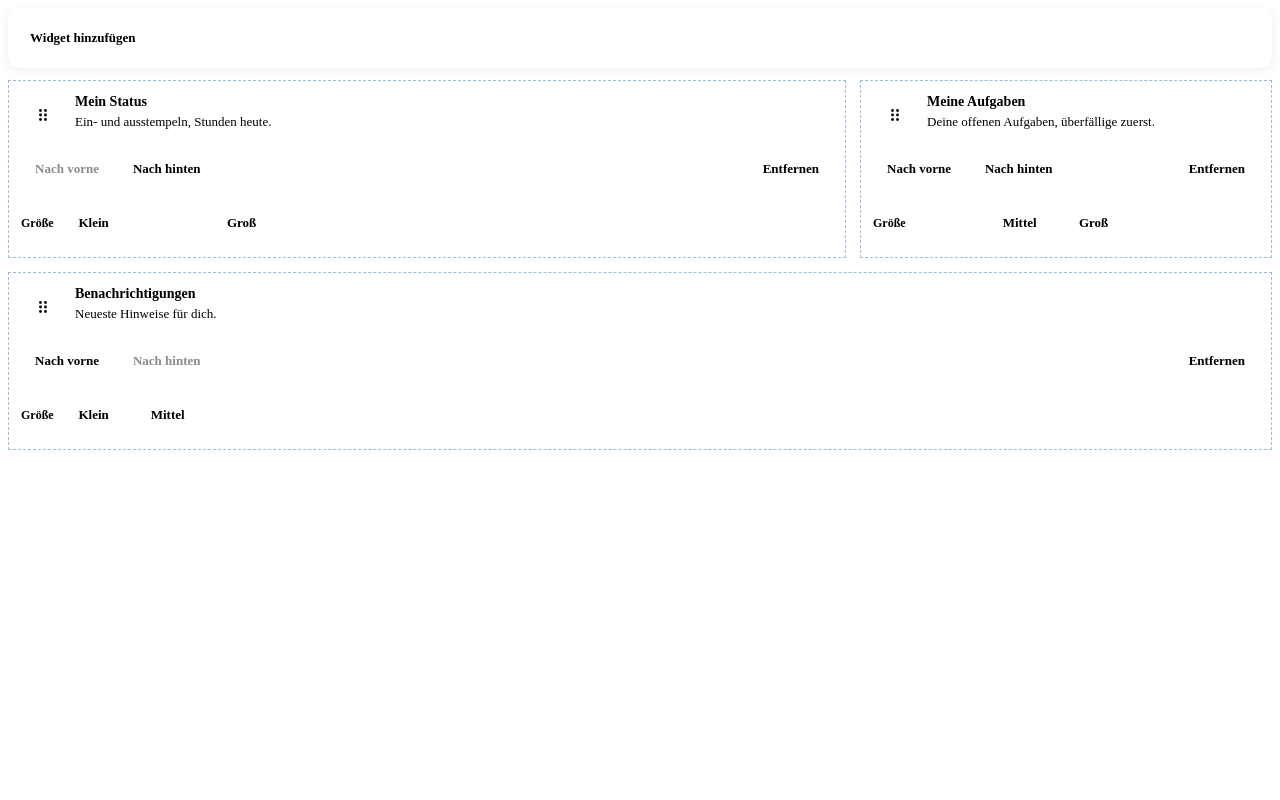
Scenario: DashboardEditor — adding › lists only available widgets not yet placed, under their group headings
This screenshot has width=1280, height=800.
Click the button "Widget hinzufügen" at (83, 38), box x1=16 y1=16 x2=150 y2=60
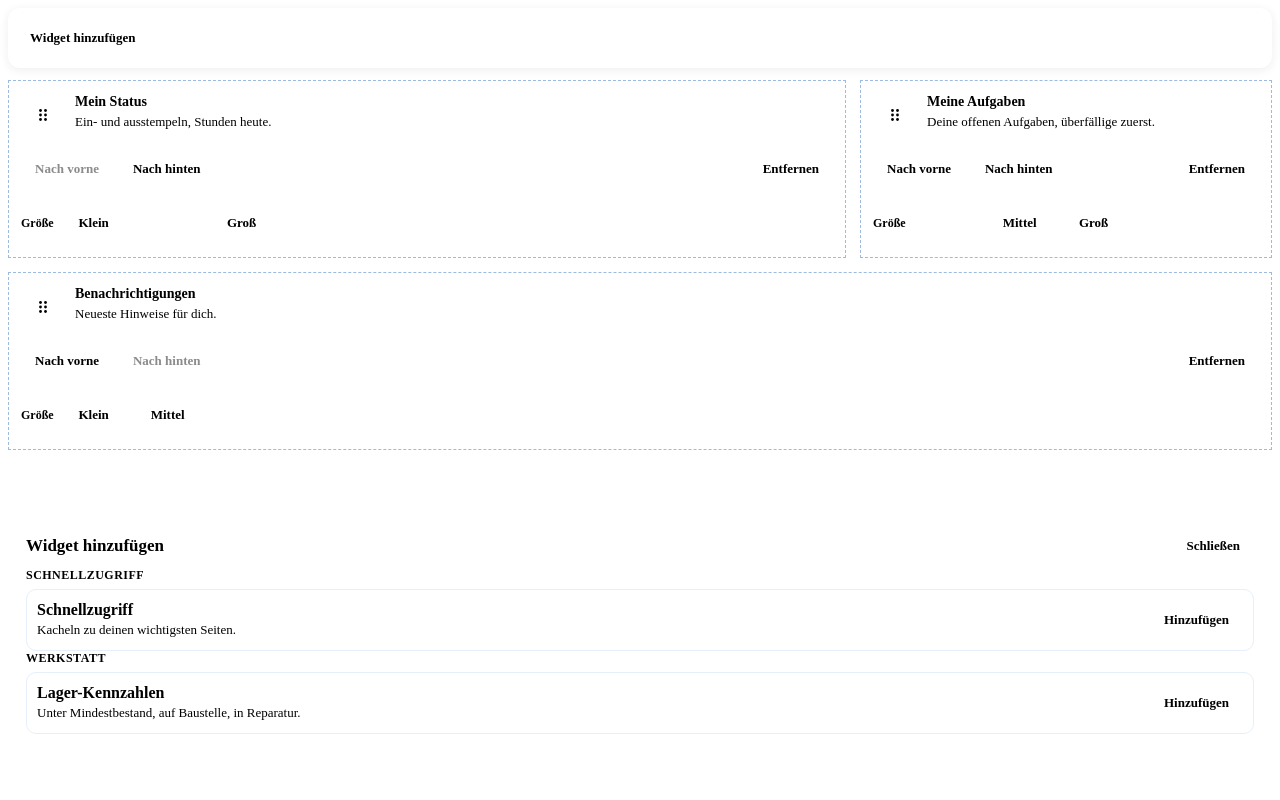
Now the headings read "Schnellzugriff", "Werkstatt", in this order, box x1=26 y1=568 x2=144 y2=582; x1=26 y1=651 x2=106 y2=665
